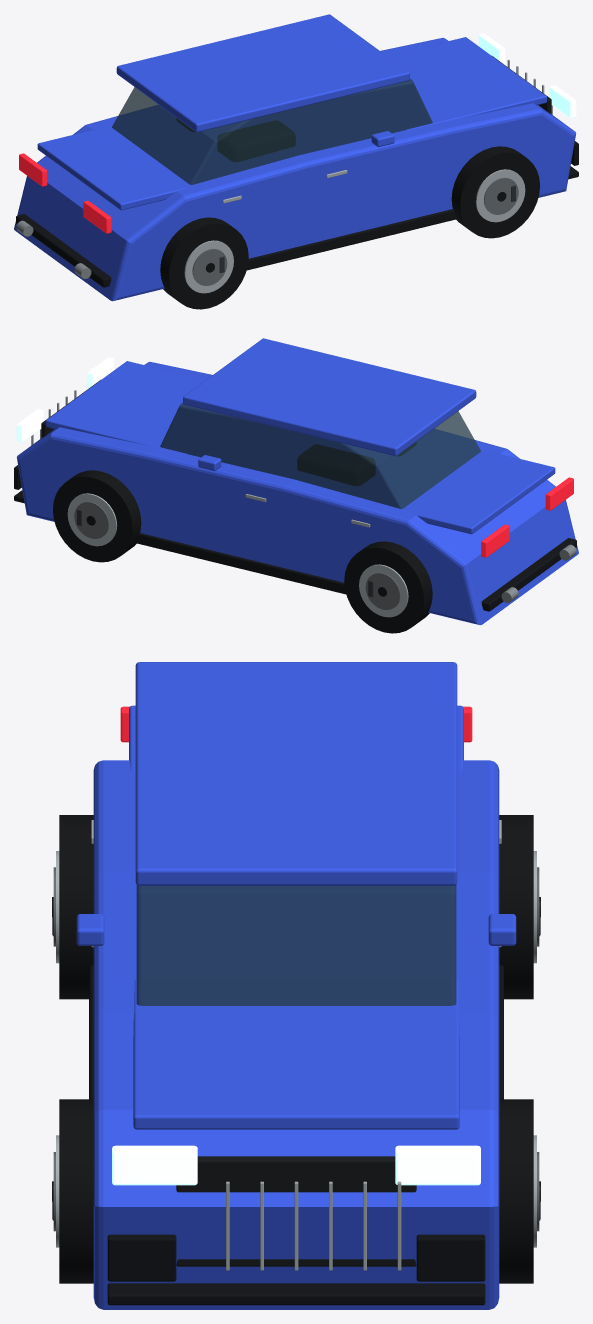
The model's file is chevy_tahoe.glb.
3 renders of one model, top to bottom at view 1: azimuth 30°, elevation 25°; view 2: azimuth 150°, elevation 25°; view 3: azimuth 270°, elevation 25°, orthographic. The views are drawn at different scales.
Visible parts, largest first — view 1: sculpted_body, roof, glasshouse, hood_center, rear_deck, rear_right_wheel_tire, front_right_wheel_tire, side_skirt_1, seat_1, rear_diffuser, rear_right_wheel_rim, front_right_wheel_rim (+6 smaller); view 2: sculpted_body, roof, glasshouse, hood_center, rear_deck, rear_left_wheel_tire, front_left_wheel_tire, side_skirt_-1, seat_-1, rear_diffuser, rear_left_wheel_rim, front_left_wheel_rim (+6 smaller); view 3: sculpted_body, roof, hood_center, glasshouse, front_grille, front_splitter, front_left_wheel_tire, front_right_wheel_tire, rear_left_wheel_tire, rear_right_wheel_tire, headlight_right, headlight_left (+5 smaller).
Boxes of the visible parts, bbox=[...] form: sculpted_body: bbox=[14, 38, 576, 301]; roof: bbox=[116, 14, 409, 132]; glasshouse: bbox=[112, 78, 432, 184]; hood_center: bbox=[358, 37, 546, 129]; rear_deck: bbox=[37, 126, 190, 210]; rear_right_wheel_tire: bbox=[160, 217, 248, 309]; front_right_wheel_tire: bbox=[451, 146, 539, 238]; side_skirt_1: bbox=[246, 209, 457, 270]; seat_1: bbox=[218, 121, 294, 161]; rear_diffuser: bbox=[16, 214, 111, 287]; rear_right_wheel_rim: bbox=[184, 240, 233, 293]; front_right_wheel_rim: bbox=[475, 169, 525, 222]; sculpted_body: bbox=[16, 362, 578, 625]; roof: bbox=[183, 338, 476, 456]; glasshouse: bbox=[160, 402, 480, 508]; hood_center: bbox=[46, 361, 234, 453]; rear_deck: bbox=[402, 450, 555, 534]; rear_left_wheel_tire: bbox=[344, 541, 432, 633]; front_left_wheel_tire: bbox=[53, 470, 141, 562]; side_skirt_-1: bbox=[135, 533, 346, 594]; seat_-1: bbox=[298, 445, 374, 485]; rear_diffuser: bbox=[481, 538, 576, 611]; rear_left_wheel_rim: bbox=[359, 564, 408, 617]; front_left_wheel_rim: bbox=[67, 493, 117, 546]; sculpted_body: bbox=[93, 760, 499, 1309]; roof: bbox=[135, 662, 457, 885]; hood_center: bbox=[133, 979, 459, 1129]; glasshouse: bbox=[136, 885, 456, 1005]; front_grille: bbox=[176, 1156, 416, 1266]; front_splitter: bbox=[107, 1283, 485, 1305]; front_left_wheel_tire: bbox=[499, 1099, 533, 1283]; front_right_wheel_tire: bbox=[59, 1099, 93, 1283]; rear_left_wheel_tire: bbox=[499, 815, 533, 999]; rear_right_wheel_tire: bbox=[59, 815, 93, 999]; headlight_right: bbox=[112, 1145, 197, 1185]; headlight_left: bbox=[395, 1145, 480, 1185].
Bounding box in the file's own units: 5.24 × 1.73 × 2.28.
